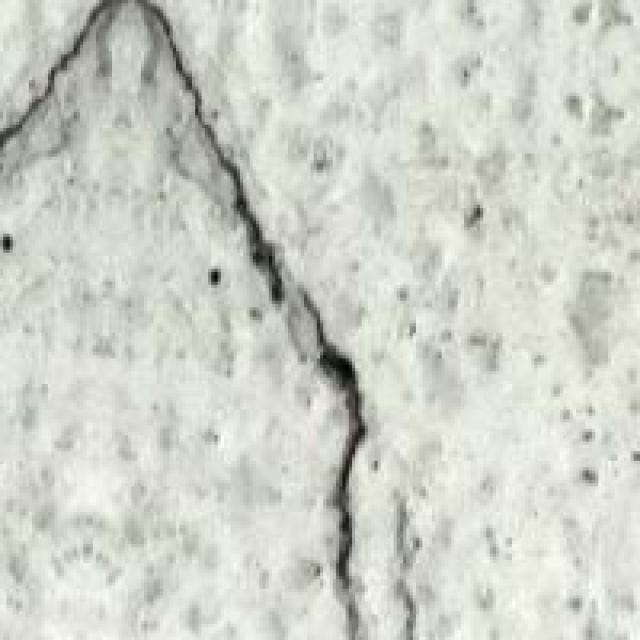Crack: (0, 0, 416, 637)
